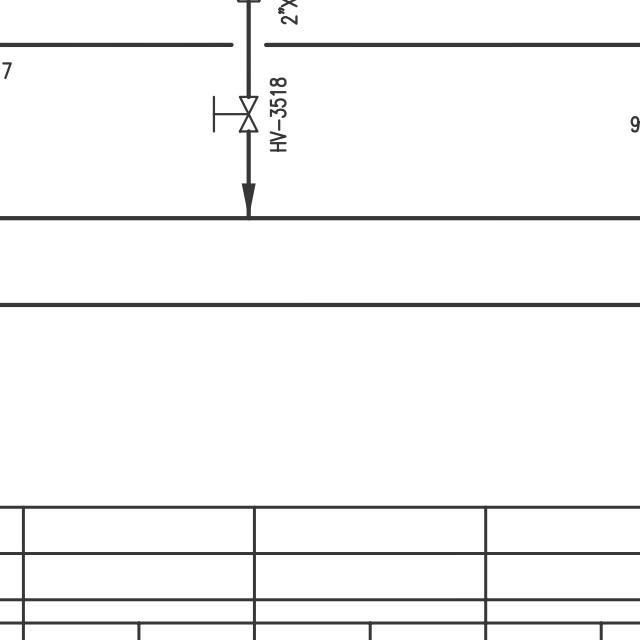HVWT: (208, 88, 263, 136)
